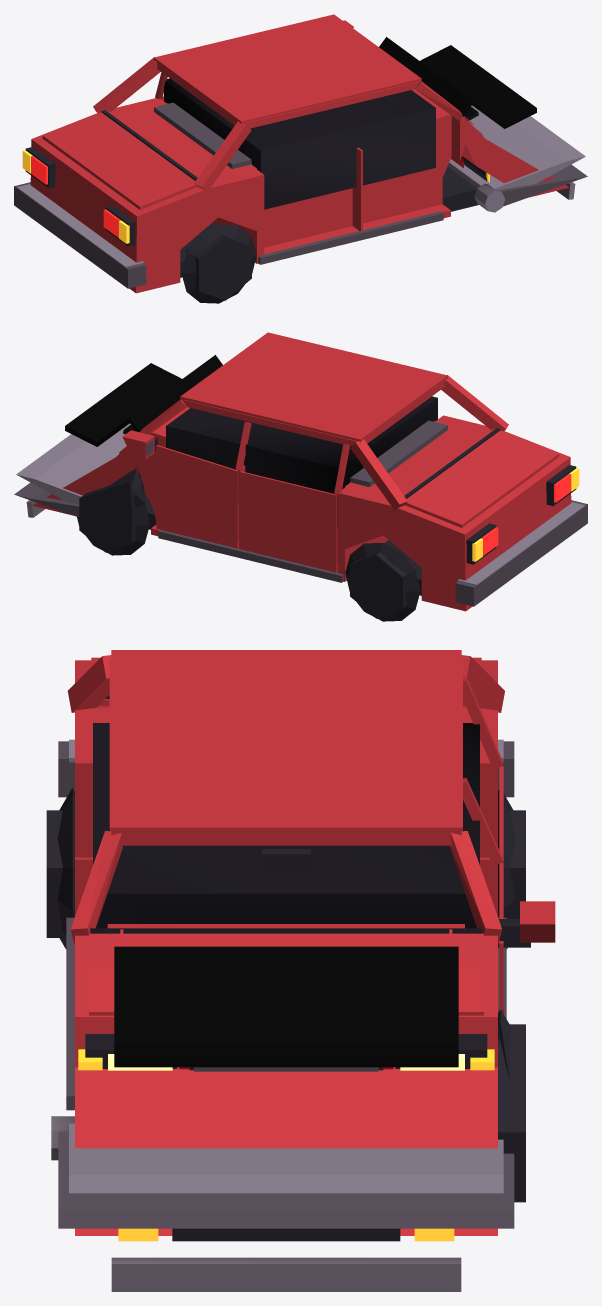
File: model.wrecked.lod2.glb
The picture shows the model from 3 angles, top to bottom: view 1: azimuth 30°, elevation 25°; view 2: azimuth 150°, elevation 25°; view 3: azimuth 270°, elevation 25°; orthographic projection. The views are drawn at different scales.
Visible parts, largest first — view 1: body_pal_survivorRed, exposedCabin, body_pal_asphalt, body_pal_sidewalk, buckledHood, wheelRL_pal_uiDark, body_pal_uiDark, lightsBrake_emi_sirenRed, exposedAxleHub, lightsBrake_emi_schoolBusYellow; view 2: body_pal_survivorRed, exposedCabin, doorR_pal_survivorRed, doorRearR_pal_survivorRed, body_pal_asphalt, buckledHood, body_pal_sidewalk, wheelRR_pal_uiDark, wheelFR_pal_uiDark, body_pal_uiDark, lightsBrake_emi_sirenRed, lightsBrake_emi_schoolBusYellow; view 3: body_pal_survivorRed, buckledHood, exposedCabin, body_pal_asphalt, body_pal_sidewalk, detachedBumper, body_pal_uiDark, wheelFR_pal_uiDark, wheelRL_pal_uiDark, doorR_pal_survivorRed, wheelRR_pal_uiDark, lightsFront_emi_schoolBusYellow (+1 smaller).
Part boxes in pixels (box(x1,y1,x2,y2)): body_pal_survivorRed: box(30, 14, 568, 293); exposedCabin: box(164, 78, 435, 209); body_pal_asphalt: box(14, 102, 587, 288); body_pal_sidewalk: box(16, 105, 585, 267); buckledHood: box(379, 37, 536, 128); wheelRL_pal_uiDark: box(181, 224, 256, 303); body_pal_uiDark: box(25, 110, 487, 277); lightsBrake_emi_sirenRed: box(31, 156, 120, 237); exposedAxleHub: box(474, 183, 505, 212); lightsBrake_emi_schoolBusYellow: box(22, 150, 129, 243); body_pal_survivorRed: box(33, 332, 571, 611); exposedCabin: box(166, 396, 437, 527); doorR_pal_survivorRed: box(122, 422, 251, 548); doorRearR_pal_survivorRed: box(239, 444, 349, 572); body_pal_asphalt: box(14, 420, 587, 606); buckledHood: box(65, 355, 222, 446); body_pal_sidewalk: box(16, 423, 585, 585); wheelRR_pal_uiDark: box(345, 542, 420, 621); wheelFR_pal_uiDark: box(77, 469, 149, 555); body_pal_uiDark: box(144, 428, 576, 595); lightsBrake_emi_sirenRed: box(481, 474, 570, 555); lightsBrake_emi_schoolBusYellow: box(472, 468, 579, 561); body_pal_survivorRed: box(67, 650, 504, 1235); buckledHood: box(114, 946, 458, 1067); exposedCabin: box(93, 723, 479, 928); body_pal_asphalt: box(58, 741, 514, 1228); body_pal_sidewalk: box(69, 739, 503, 1193); detachedBumper: box(111, 1257, 461, 1291); body_pal_uiDark: box(85, 695, 487, 1241); wheelFR_pal_uiDark: box(498, 1010, 525, 1202); wheelRL_pal_uiDark: box(46, 788, 74, 949); doorR_pal_survivorRed: box(463, 778, 555, 1014); wheelRR_pal_uiDark: box(498, 789, 525, 948); lightsFront_emi_schoolBusYellow: box(78, 1049, 494, 1241).
Size of the model in its own units: 4.53 by 1.57 by 2.16.
